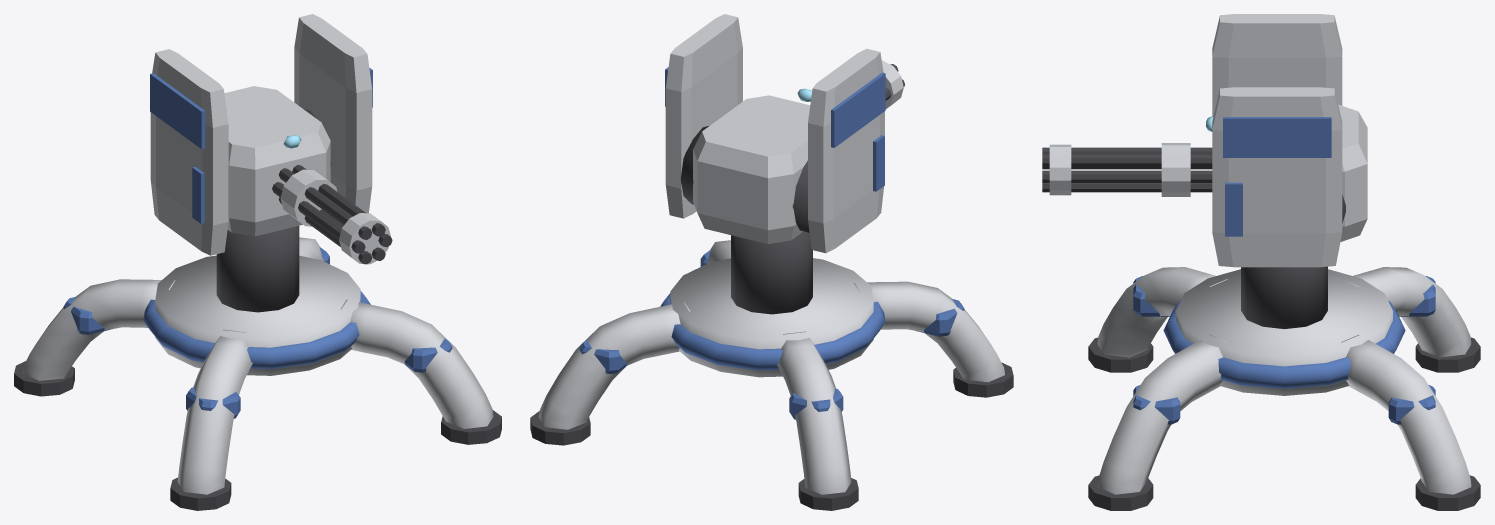
Rendered from AutoTurret.fbx.
3 views of the same model, side by side, from view 1: azimuth 30°, elevation 25°; view 2: azimuth 150°, elevation 25°; view 3: azimuth 270°, elevation 25° (orthographic). The views are drawn at different scales.
Parts seen in each view (by area): view 1: TurretMetal.001.Head, TurretMetal, TurretDark, TurretBlue, TurretDark.001.Head, TurretBlue.001.Head; view 2: TurretMetal.001.Head, TurretMetal, TurretDark, TurretBlue, TurretBlue.001.Head, TurretDark.001.Head; view 3: TurretMetal, TurretMetal.001.Head, TurretDark, TurretBlue, TurretDark.001.Head, TurretBlue.001.Head.
Boxes of the visible parts, x1=… form: TurretMetal.001.Head: x1=150, y1=14, x2=390, y2=264; TurretMetal: x1=22, y1=237, x2=493, y2=494; TurretDark: x1=14, y1=226, x2=501, y2=510; TurretBlue: x1=63, y1=247, x2=452, y2=418; TurretDark.001.Head: x1=272, y1=109, x2=392, y2=264; TurretBlue.001.Head: x1=150, y1=68, x2=372, y2=223; TurretMetal.001.Head: x1=665, y1=14, x2=903, y2=253; TurretMetal: x1=538, y1=240, x2=1004, y2=494; TurretDark: x1=530, y1=231, x2=1013, y2=510; TurretBlue: x1=579, y1=249, x2=964, y2=419; TurretBlue.001.Head: x1=665, y1=67, x2=885, y2=191; TurretDark.001.Head: x1=680, y1=64, x2=904, y2=232; TurretMetal: x1=1097, y1=267, x2=1471, y2=494; TurretMetal.001.Head: x1=1049, y1=14, x2=1367, y2=267; TurretDark: x1=1088, y1=266, x2=1480, y2=510; TurretBlue: x1=1133, y1=276, x2=1435, y2=424; TurretDark.001.Head: x1=1042, y1=147, x2=1345, y2=223; TurretBlue.001.Head: x1=1223, y1=117, x2=1331, y2=236.
Size of the model in its own units: 1.08 by 1.15 by 1.21.
